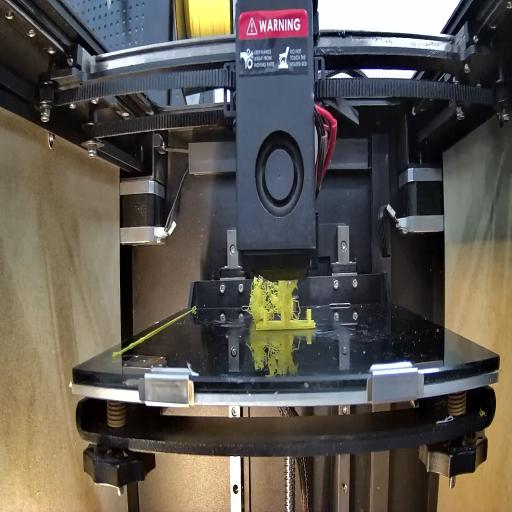spaghetti: (246, 272, 300, 322)
